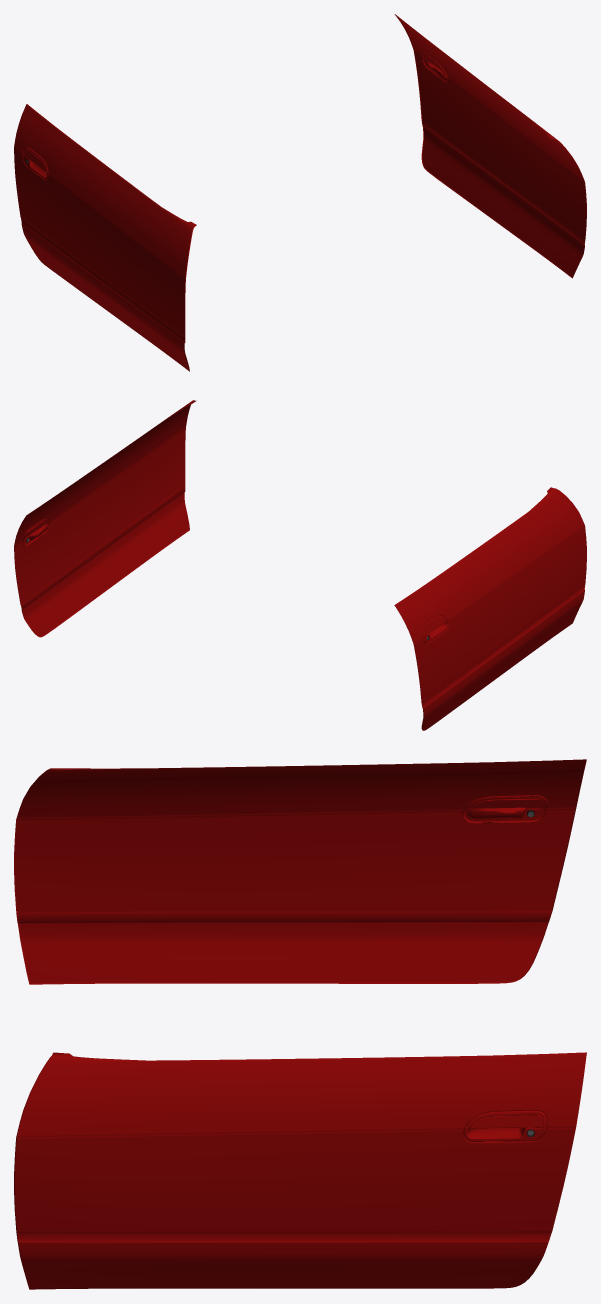
File: doors_oem.glb
3 views of the same model, one above another, from view 1: azimuth 30°, elevation 25°; view 2: azimuth 150°, elevation 25°; view 3: azimuth 270°, elevation 25° (orthographic). The views are drawn at different scales.
Parts seen in each view (by area): view 1: Doors; view 2: Doors; view 3: Doors.
Boxes of the visible parts, box(x1,y1,x2,y2) form: Doors: box(14, 14, 586, 371); Doors: box(14, 400, 586, 730); Doors: box(14, 759, 586, 1289).
Size of the model in its own units: 1.69 by 0.5685 by 1.28.
2 materials, 1 textured.
